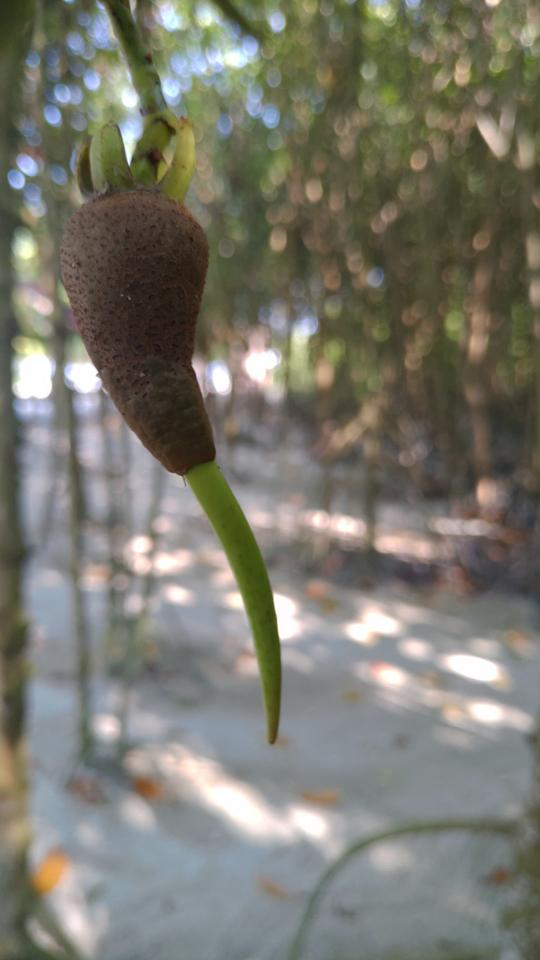mentah: (31, 121, 305, 764)
